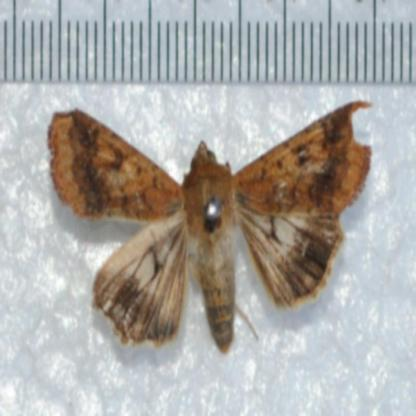helicoverpa: (48, 102, 374, 364)
